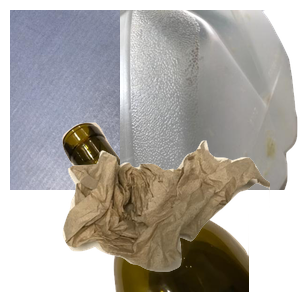cardboard: (10, 10, 250, 190)
glass: (60, 120, 300, 300)
plastic: (120, 10, 300, 190)
trash: (60, 138, 300, 300)
